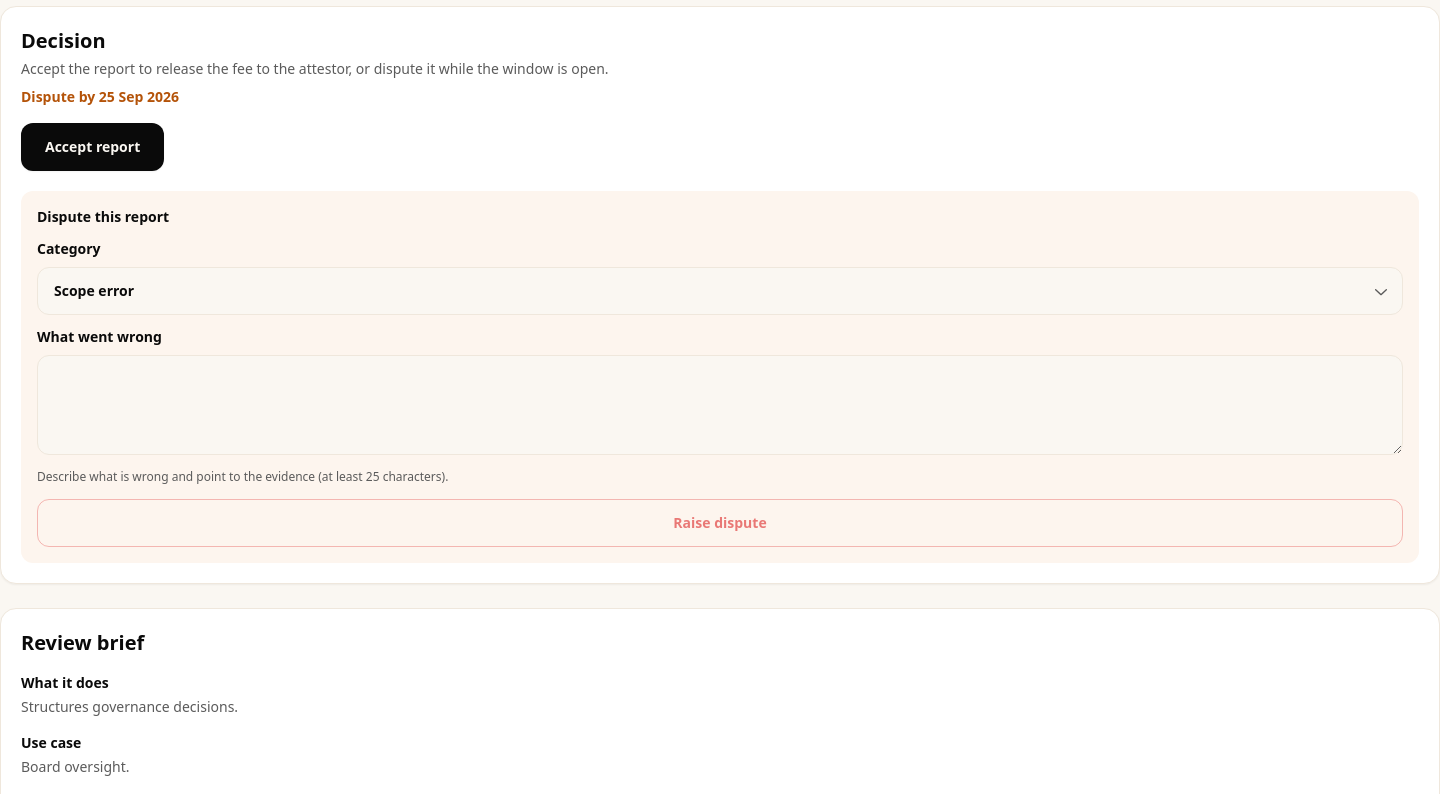
Test: AttestationDetail › blocks a dispute until the evidence meets the platform's floor
This screenshot has width=1440, height=794.
(page scrolled)
Expected: the text "Dispute by 25 Sep 2026" is shown, [21, 87, 179, 106]
Type "Too short." into the text box labelled "What went wrong".
click(720, 405); type("Too short.")  # box [37, 355, 1403, 455]
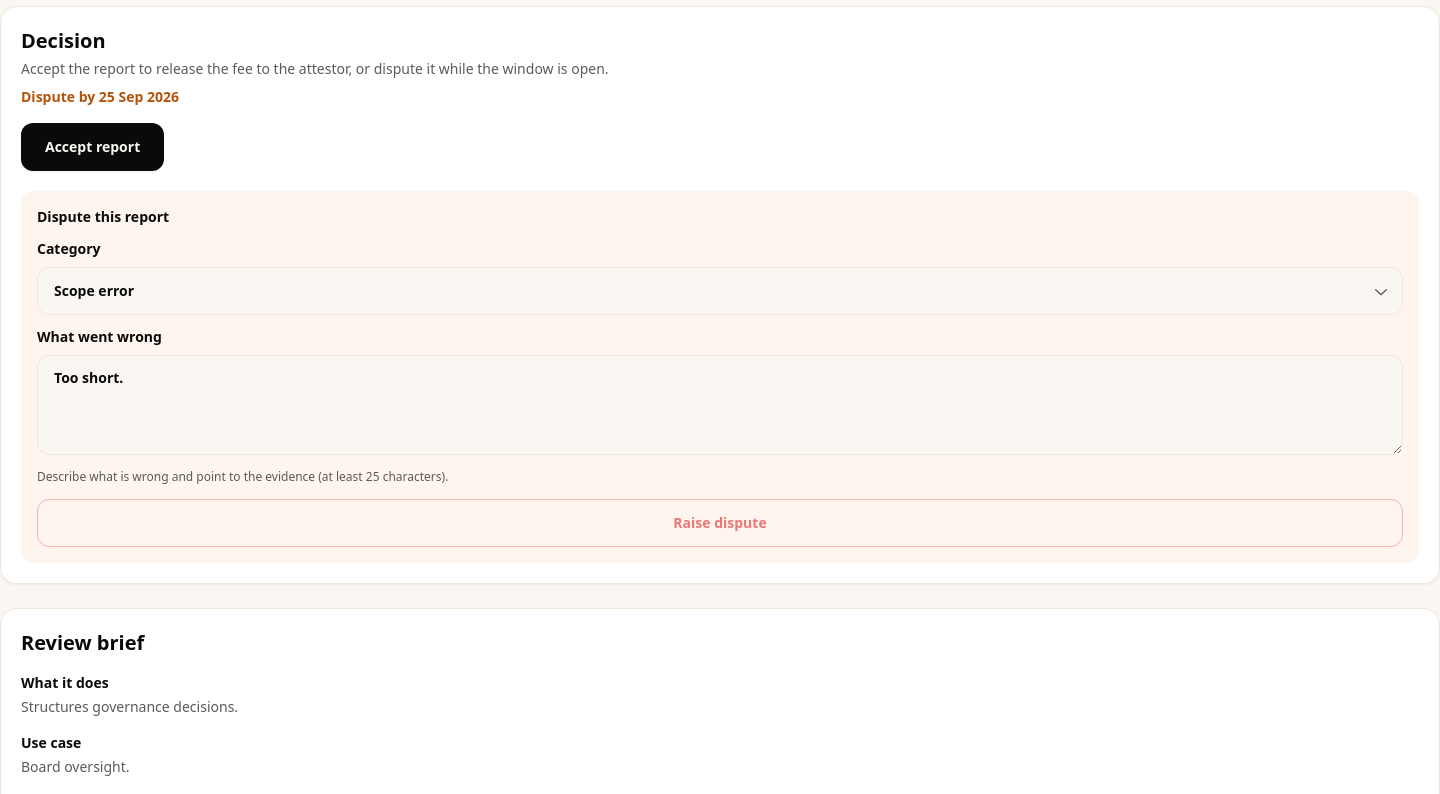
Expected: the button "Raise dispute" is disabled, [37, 499, 1403, 547]
Expected: the text "Describe what is wrong and point to the evidence (at least 25 characters)." is shown, [37, 468, 448, 485]
Replace the text in the text box labelled "What went wrong" with "Long enough to substantiate it." at (720, 405), box [37, 355, 1403, 455]
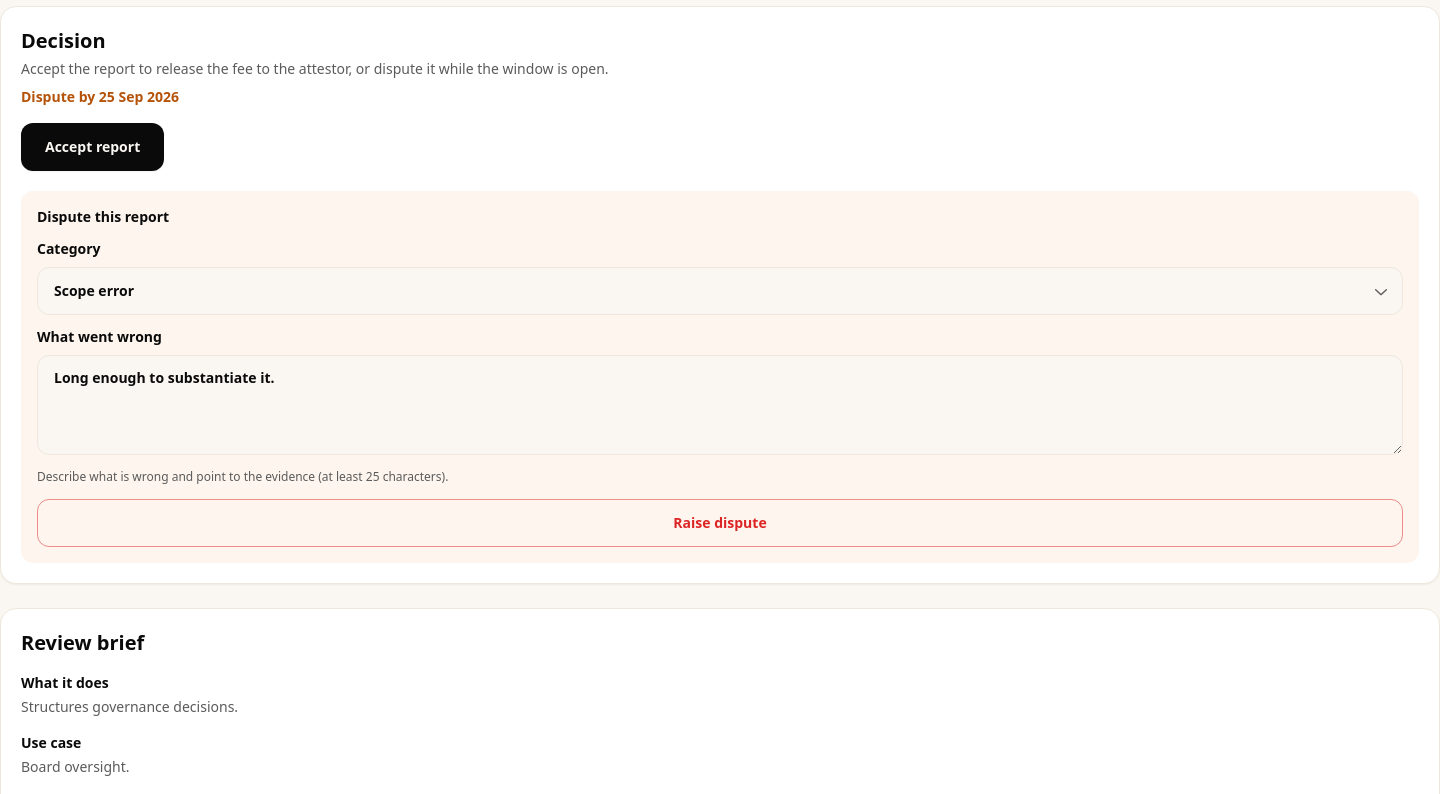
Expected: the button "Raise dispute" is enabled, [37, 499, 1403, 547]
